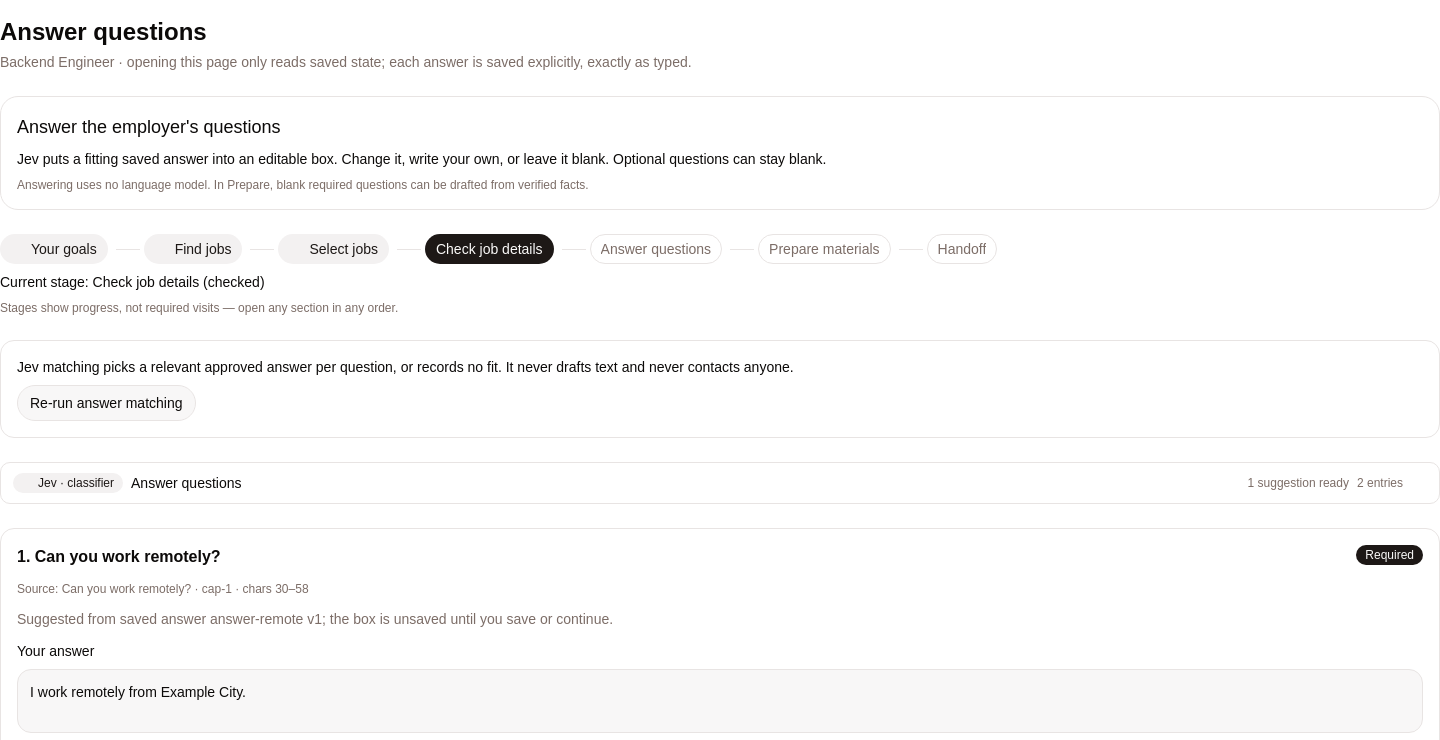
Scenario: answers page saves › clears a suggestion to an explicit blank
Clear the text box showing "I work remotely from Example City." at x=720, y=701, box top-left (17, 669), bottom-right (1423, 733)
(page scrolled)
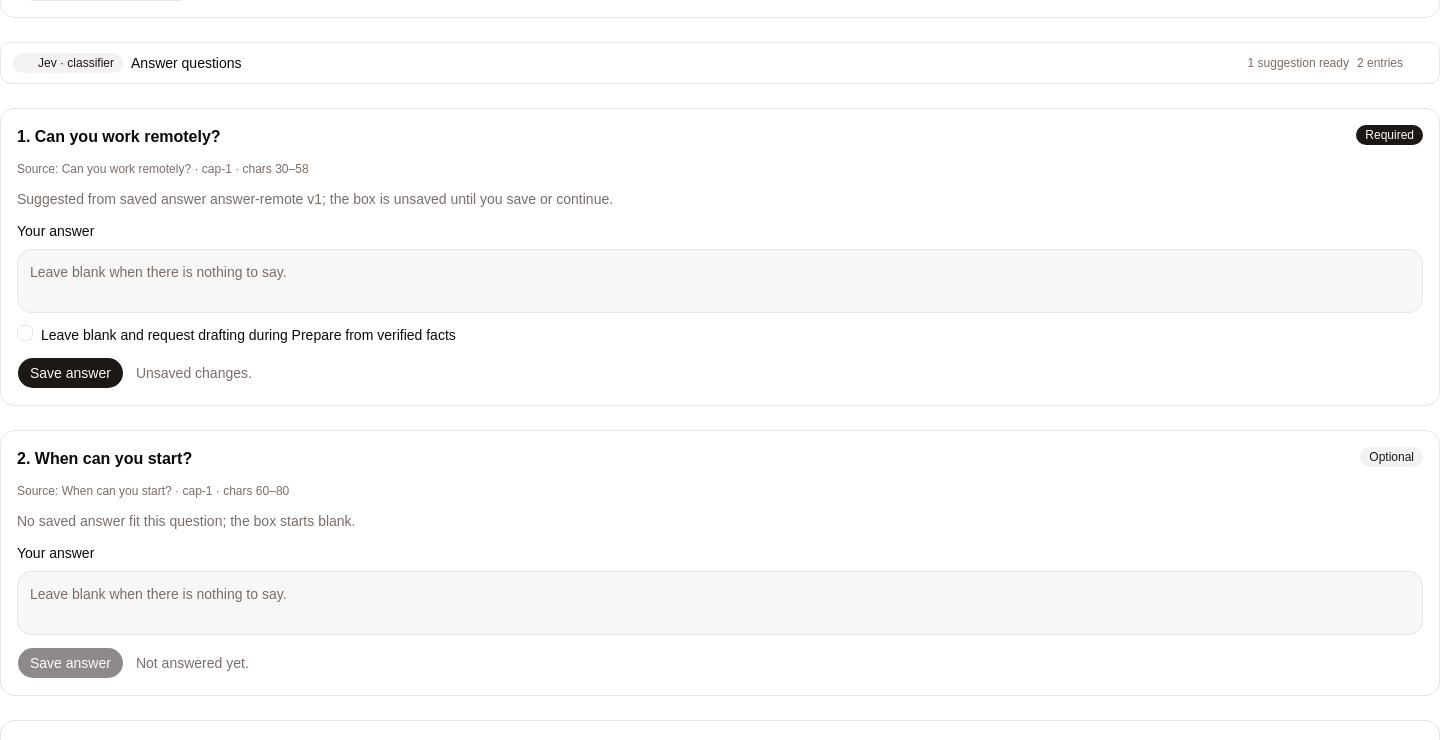
Click the button "Save answer" next to "Unsaved changes." at x=70, y=373, box top-left (17, 357), bottom-right (124, 389)
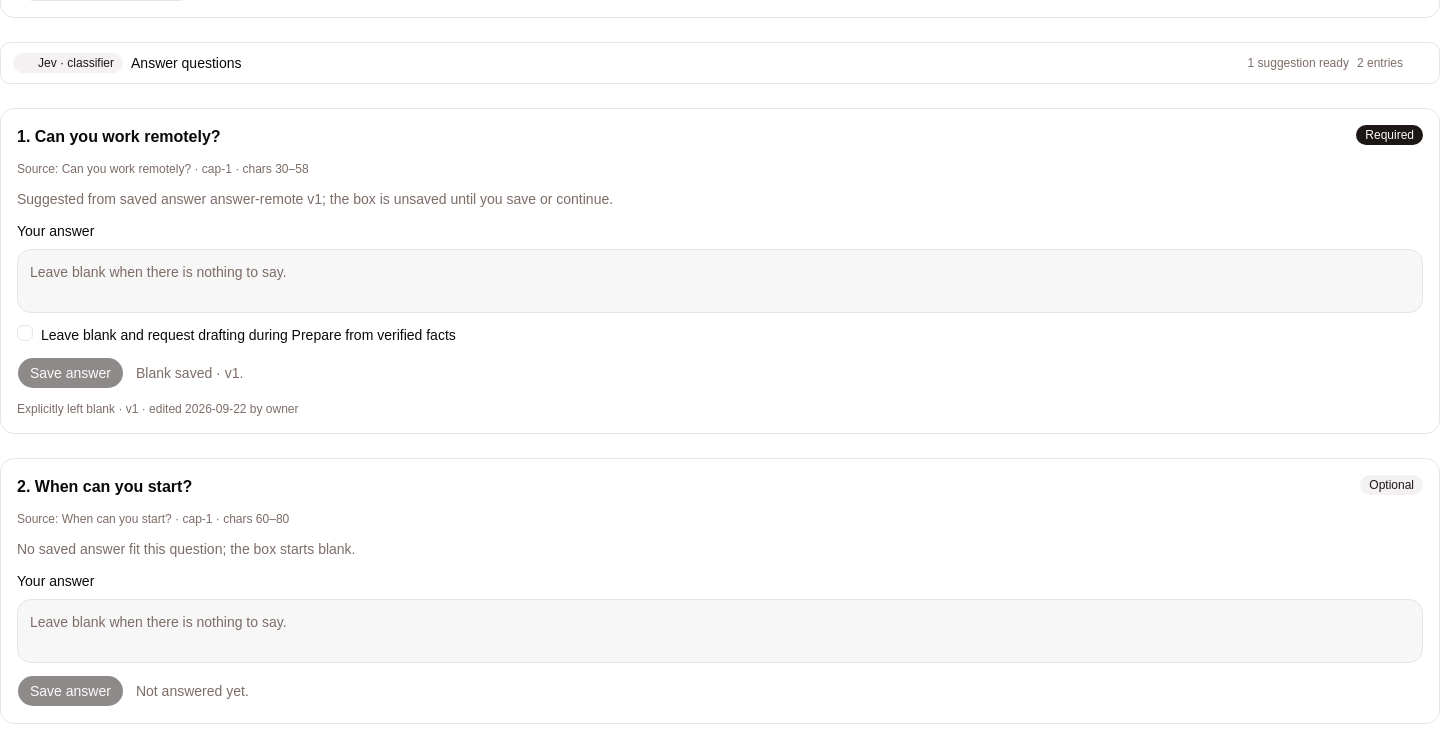
Result: the text "Blank saved · v1." is shown at top-left (136, 363), bottom-right (243, 383)
